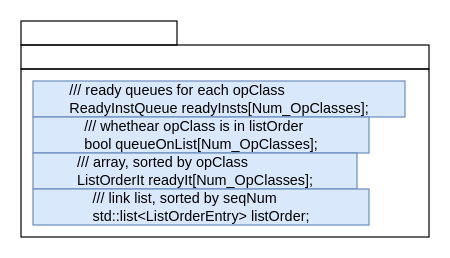
This 450x258 diagram has some shape labels left out. Each missing label, with the centre of its shape:
"InstructionQueue" belongs at pixel 98 32.
"Note: seqNum is global order for all dynInsts" belongs at pixel 224 56.
